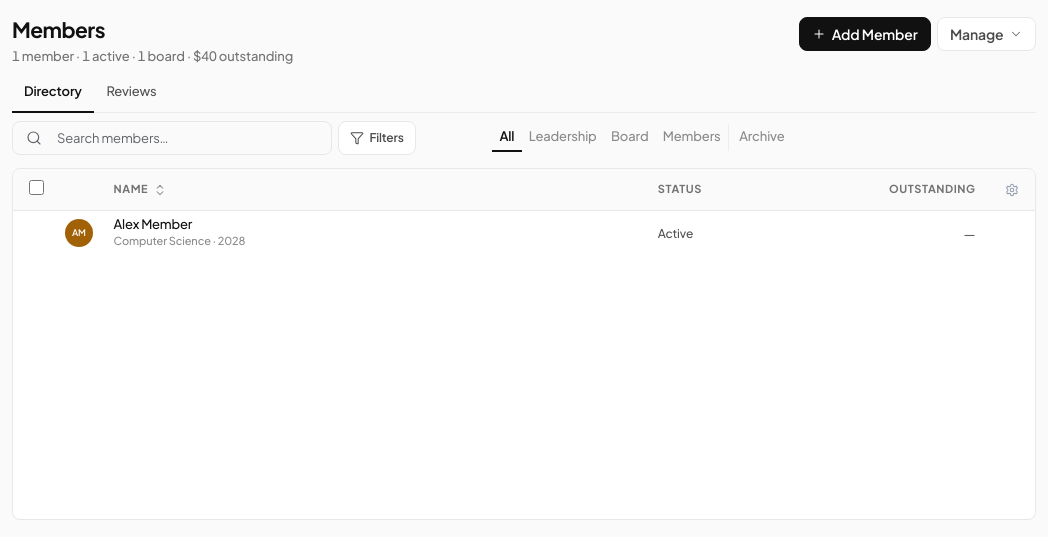
MembersPage › renders CRM toolbar with add member and manage menu
Expected: the heading "Members" is shown, [12, 16, 105, 43]
Expected: the text named "Members summary" shows "1 member", [12, 48, 293, 64]
Step 1. Click the button "Manage" → (986,34), box [937, 17, 1036, 51]
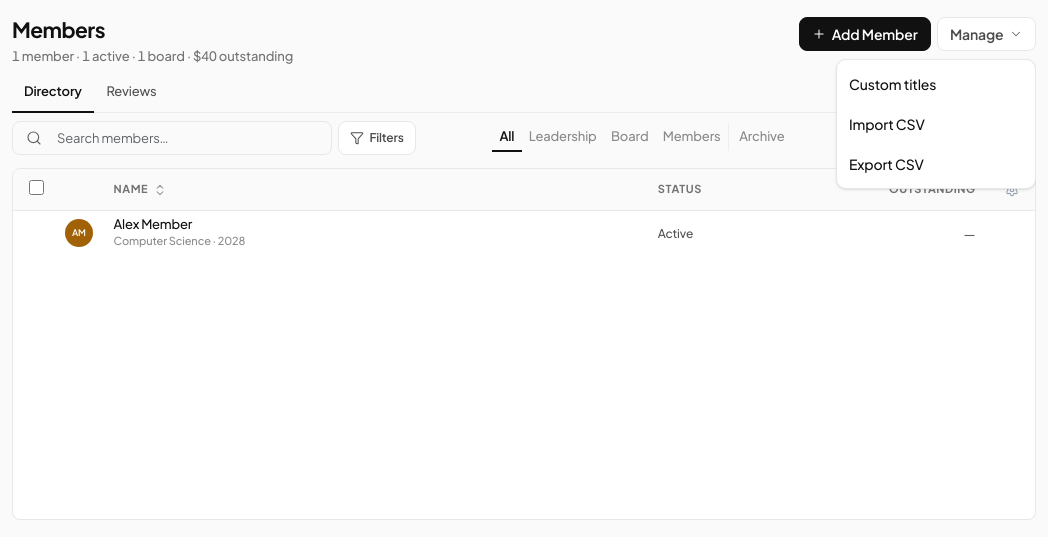
Now the menu item "Import CSV" is shown, box [837, 104, 1035, 144]
Now the menu item "Export CSV" is shown, box [837, 144, 1035, 184]
Now the menu item "Custom titles" is shown, box [837, 64, 1035, 104]
